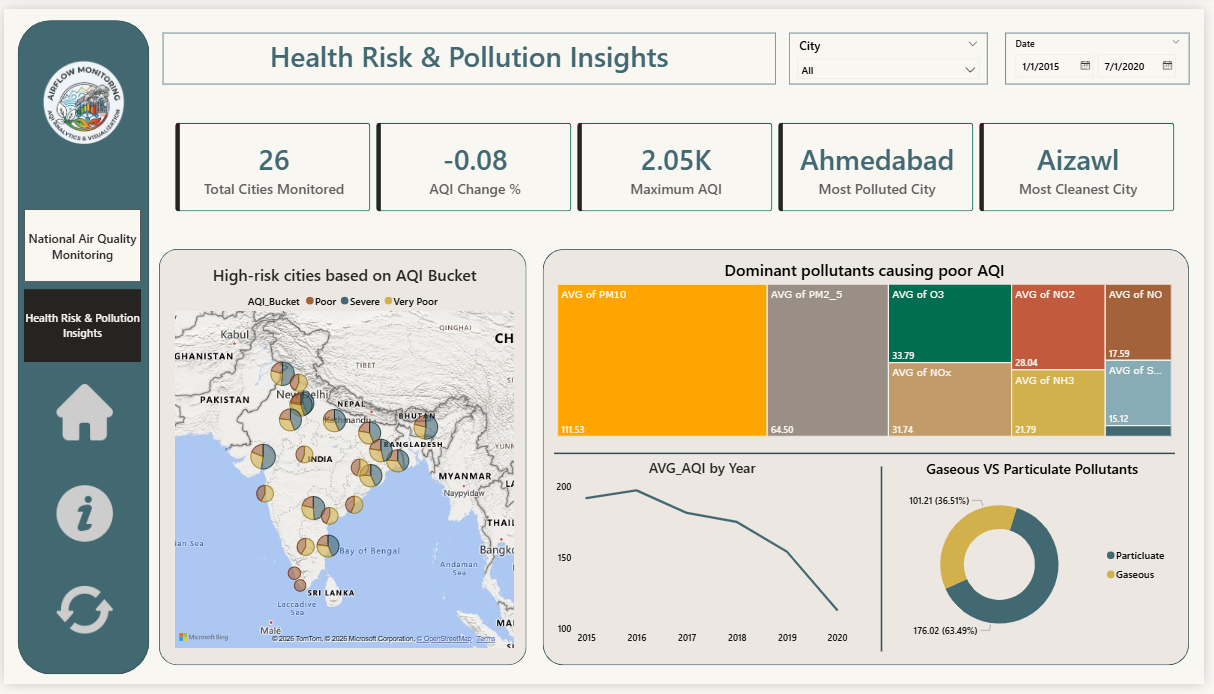

This screenshot's page, from the dashboard's own definition file:
{"tool":"powerbi","page":{"name":"Health Risk & Pollution Insights","canvas":[1600,900],"ordinal":1},"visuals":[{"type":"shape","box":[17.5,15.8,175.4,871.9],"z":0},{"type":"textbox","box":[212.3,31.6,817.5,68.4],"z":1000},{"type":"cardVisual","fields":{"Data":["Measure.Total Cities Monitored","Measure.AQI Change %","Measure.Maximum AQI","Measure.Most Polluted City","Measure.Most Cleanest City"]},"box":[212.3,135.1,1368.4,152.6],"z":2000},{"type":"shape","box":[206.7,320,490,555],"z":3000},{"type":"slicer","fields":{"Values":["Data.City"]},"box":[1047.4,31.6,264.9,68.4],"z":4000},{"type":"slicer","fields":{"Values":["Calender.Date"]},"box":[1335.1,31.6,245.6,68.4],"z":5000},{"type":"shape","box":[718.3,320,861.7,555],"z":6000},{"type":"map","title":"High-risk cities based on AQI Bucket","fields":{"Category":["Data.City"],"Series":["Data.AQI_Bucket"],"Size":["Measure.AVG_AQI"]},"box":[223.3,340,461.7,516.7],"z":7000},{"type":"treemap","title":"Dominant pollutants causing poor AQI","fields":{"Values":["Avg(Data.CO)","Avg(Data.NH3)","Avg(Data.NO)","Avg(Data.NO2)","Avg(Data.NOx)","Avg(Data.O3)","Avg(Data.PM2_5)","Avg(Data.PM10)","Avg(Data.SO2)"]},"box":[733.3,333.3,828.3,241.7],"z":8000},{"type":"lineChart","fields":{"Y":["Measure.AVG_AQI"],"Category":["Calender.Date.Variation.Date Hierarchy.Year"]},"box":[731.7,598.3,398.3,258.3],"z":9000},{"type":"shape","box":[733.3,586.7,828.3,11.7],"z":10000},{"type":"shape","box":[1148.3,610,43.3,246.7],"z":11000},{"type":"donutChart","title":"Gaseous VS Particulate Pollutants","fields":{"Y":["Measure.Particluate","Measure.Gaseous"]},"box":[1180,600,381.7,256.7],"z":12000},{"type":"pageNavigator","box":[26.7,277.2,156.7,205],"z":13000},{"type":"image","box":[0,15,211.7,218.3],"z":14000},{"type":"image","box":[69.3,526,75,75],"z":15000},{"type":"image","box":[69.3,763.7,75,75],"z":16000},{"type":"image","box":[69.3,644.8,75,75],"z":17000}]}

Visuals, with their boxes on the page's 1600x900 design canvas (x1, y1, x2, y2). These are canvas units, not pixel positions in the 1214x694 screenshot, which may show the page scaled, cropped or inside an application window:
shape: left=18, top=16, right=193, bottom=888
textbox: left=212, top=32, right=1030, bottom=100
cardVisual - Measure.Total Cities Monitored x Measure.AQI Change %: left=212, top=135, right=1581, bottom=288
shape: left=207, top=320, right=697, bottom=875
slicer - Data.City: left=1047, top=32, right=1312, bottom=100
slicer - Calender.Date: left=1335, top=32, right=1581, bottom=100
shape: left=718, top=320, right=1580, bottom=875
"High-risk cities based on AQI Bucket" map: left=223, top=340, right=685, bottom=857
"Dominant pollutants causing poor AQI" treemap: left=733, top=333, right=1562, bottom=575
lineChart - Measure.AVG_AQI x Calender.Date.Variation.Date Hierarchy.Year: left=732, top=598, right=1130, bottom=857
shape: left=733, top=587, right=1562, bottom=598
shape: left=1148, top=610, right=1192, bottom=857
"Gaseous VS Particulate Pollutants" donutChart: left=1180, top=600, right=1562, bottom=857
pageNavigator: left=27, top=277, right=183, bottom=482
image: left=0, top=15, right=212, bottom=233
image: left=69, top=526, right=144, bottom=601
image: left=69, top=764, right=144, bottom=839
image: left=69, top=645, right=144, bottom=720
